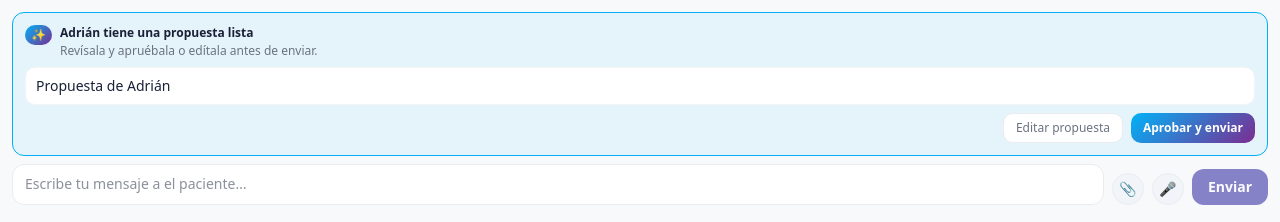
Test: ComposerArea › clears textarea after editing proposal (direct mode)
Click edit CTA — should copy proposal text to textarea
Click the button "Editar propuesta": (1063,128) [1003,113,1123,143]
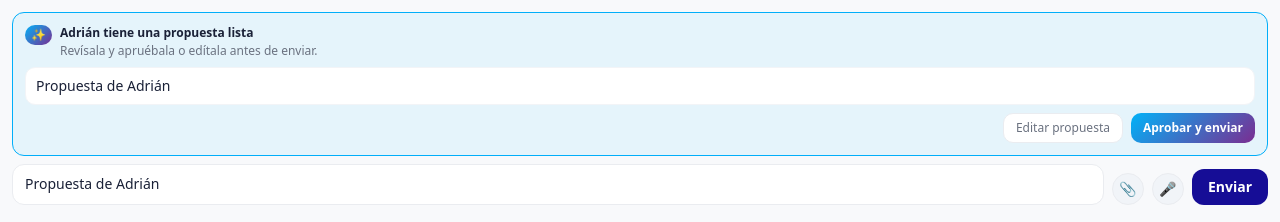
Now the text box holds "Propuesta de Adrián", box [12,164,1104,205]
